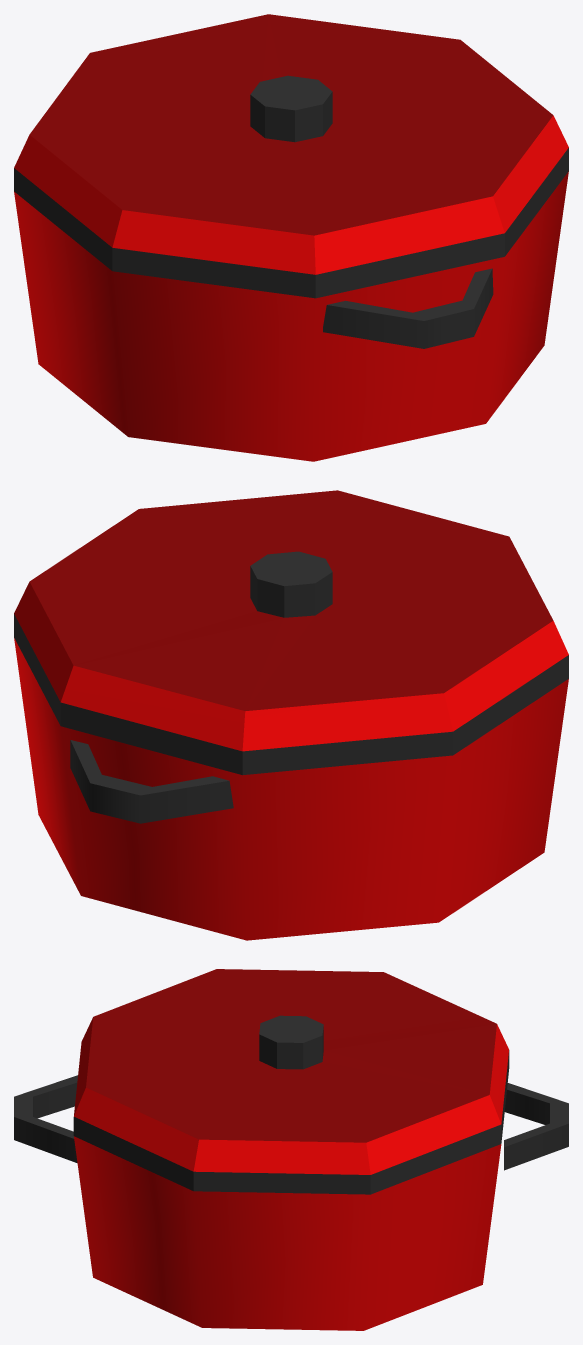
Rendered from Pot1.fbx.
3 views of the same model, one above another, from view 1: azimuth 30°, elevation 25°; view 2: azimuth 150°, elevation 25°; view 3: azimuth 270°, elevation 25° (orthographic). The views are drawn at different scales.
Visible parts, largest first — view 1: Pot1_Door, Pot1; view 2: Pot1_Door, Pot1; view 3: Pot1_Door, Pot1.
Part boxes in pixels (x1=…): Pot1_Door: x1=14, y1=14, x2=568, y2=298; Pot1: x1=14, y1=171, x2=568, y2=461; Pot1_Door: x1=14, y1=490, x2=568, y2=775; Pot1: x1=14, y1=638, x2=568, y2=940; Pot1_Door: x1=73, y1=969, x2=509, y2=1194; Pot1: x1=14, y1=1075, x2=568, y2=1330.
Bounding box in the file's own units: 36.44 × 20.11 × 46.46.
